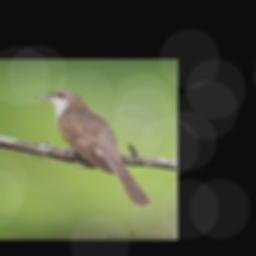Cuckoo: (32, 91, 150, 206)
